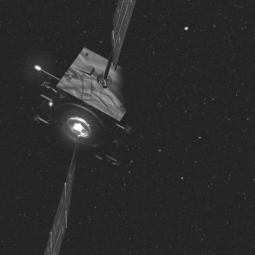smart_1: (34, 46, 152, 164)
